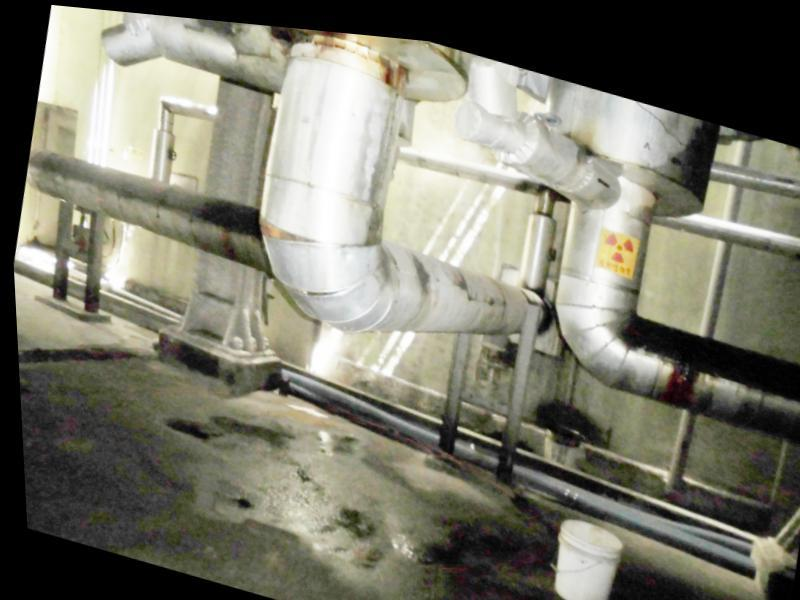water accumulation: (156, 411, 725, 600)
